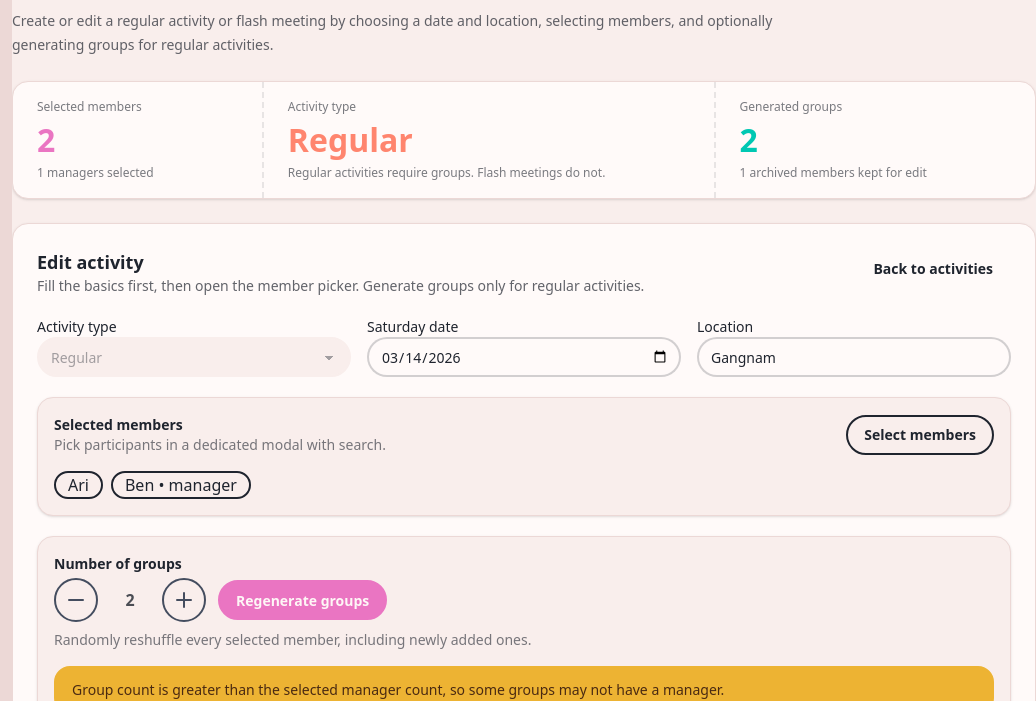
activity builder page › blocks saving after the group count changes until groups are regenerated
Click the button named "Decrease group count".
click(76, 600)  # box left=54, top=578, right=98, bottom=622
(page scrolled)
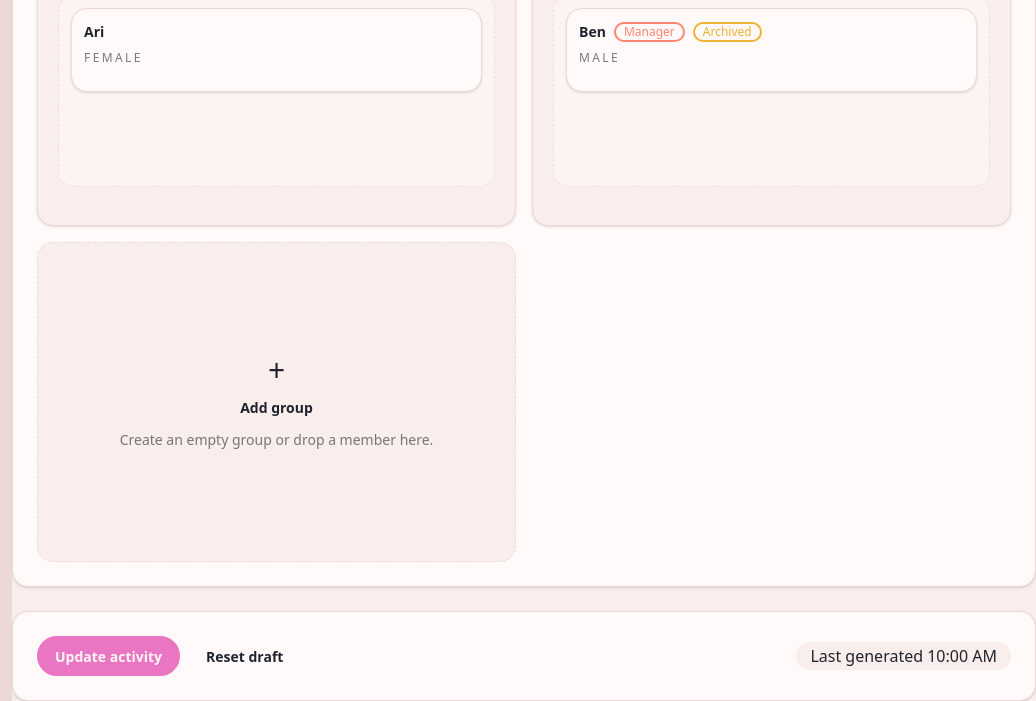
Click the button "Update activity".
click(108, 656)  # box left=37, top=636, right=180, bottom=676
(page scrolled)
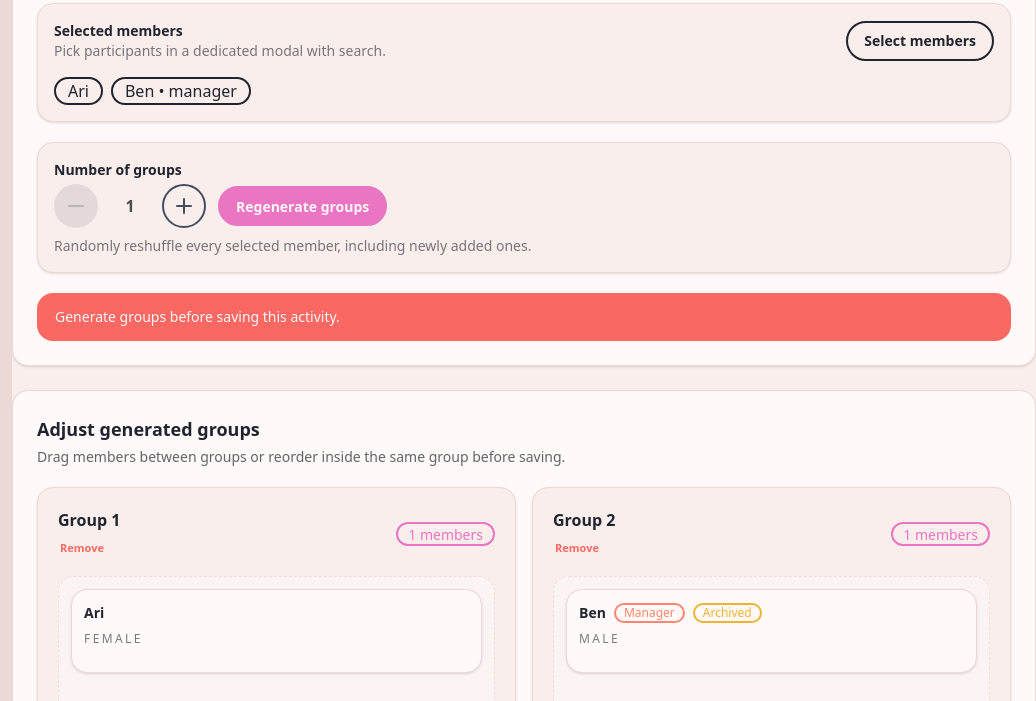
Expected: the text "Generate groups before saving this activity." is shown, left=55, top=307, right=340, bottom=327
